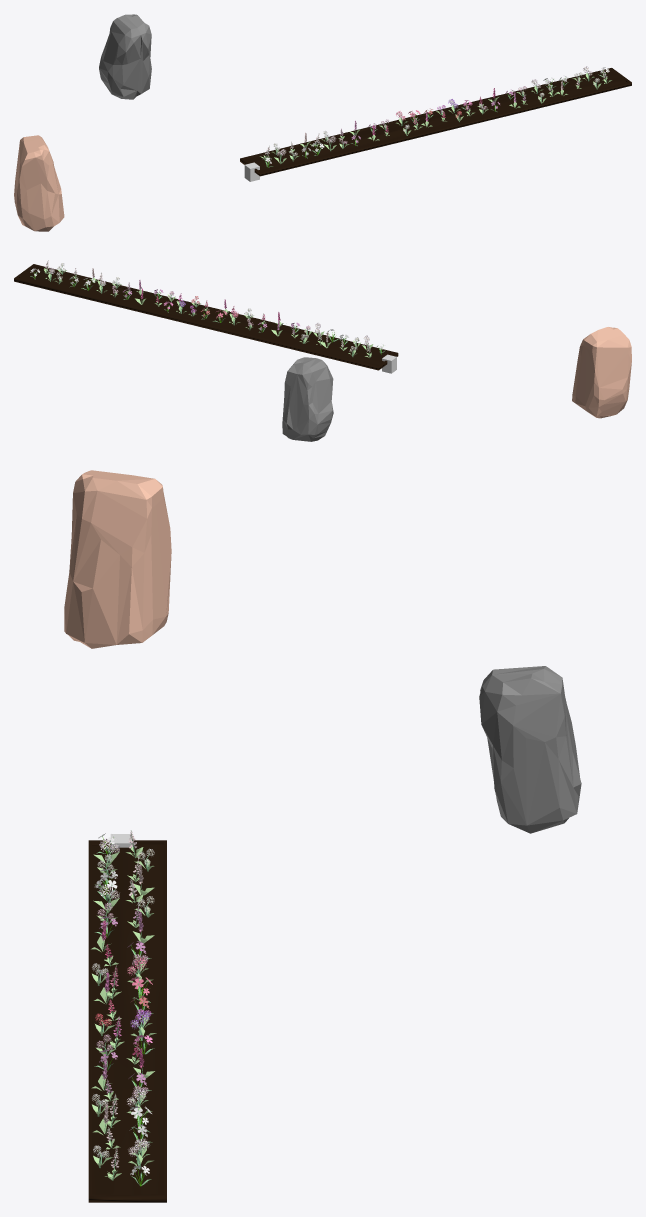
The model's file is test_parterre_de_fleur_VOILA.fbx.
3 views of the same model, one above another, from view 1: azimuth 30°, elevation 25°; view 2: azimuth 150°, elevation 25°; view 3: azimuth 270°, elevation 25° (orthographic). The views are drawn at different scales.
Parts seen in each view (by area): view 1: Plane, test parterre de fleur, caillouxx, Cube; view 2: Plane, test parterre de fleur, caillouxx, Cube; view 3: Plane, test parterre de fleur, caillouxx, Cube.
Part boxes in pixels (<box>): Plane: <box>244,71,626,171</box>; test parterre de fleur: <box>14,135,64,231</box>; caillouxx: <box>99,14,151,99</box>; Cube: <box>240,68,631,176</box>; Plane: <box>19,267,392,365</box>; test parterre de fleur: <box>572,327,631,418</box>; caillouxx: <box>282,357,333,441</box>; Cube: <box>14,264,398,370</box>; Plane: <box>90,844,163,1194</box>; test parterre de fleur: <box>64,470,171,648</box>; caillouxx: <box>479,666,581,833</box>; Cube: <box>88,840,166,1202</box>.
Size of what is drawn, in the model's own units: 10952 by 1579 by 4092.
